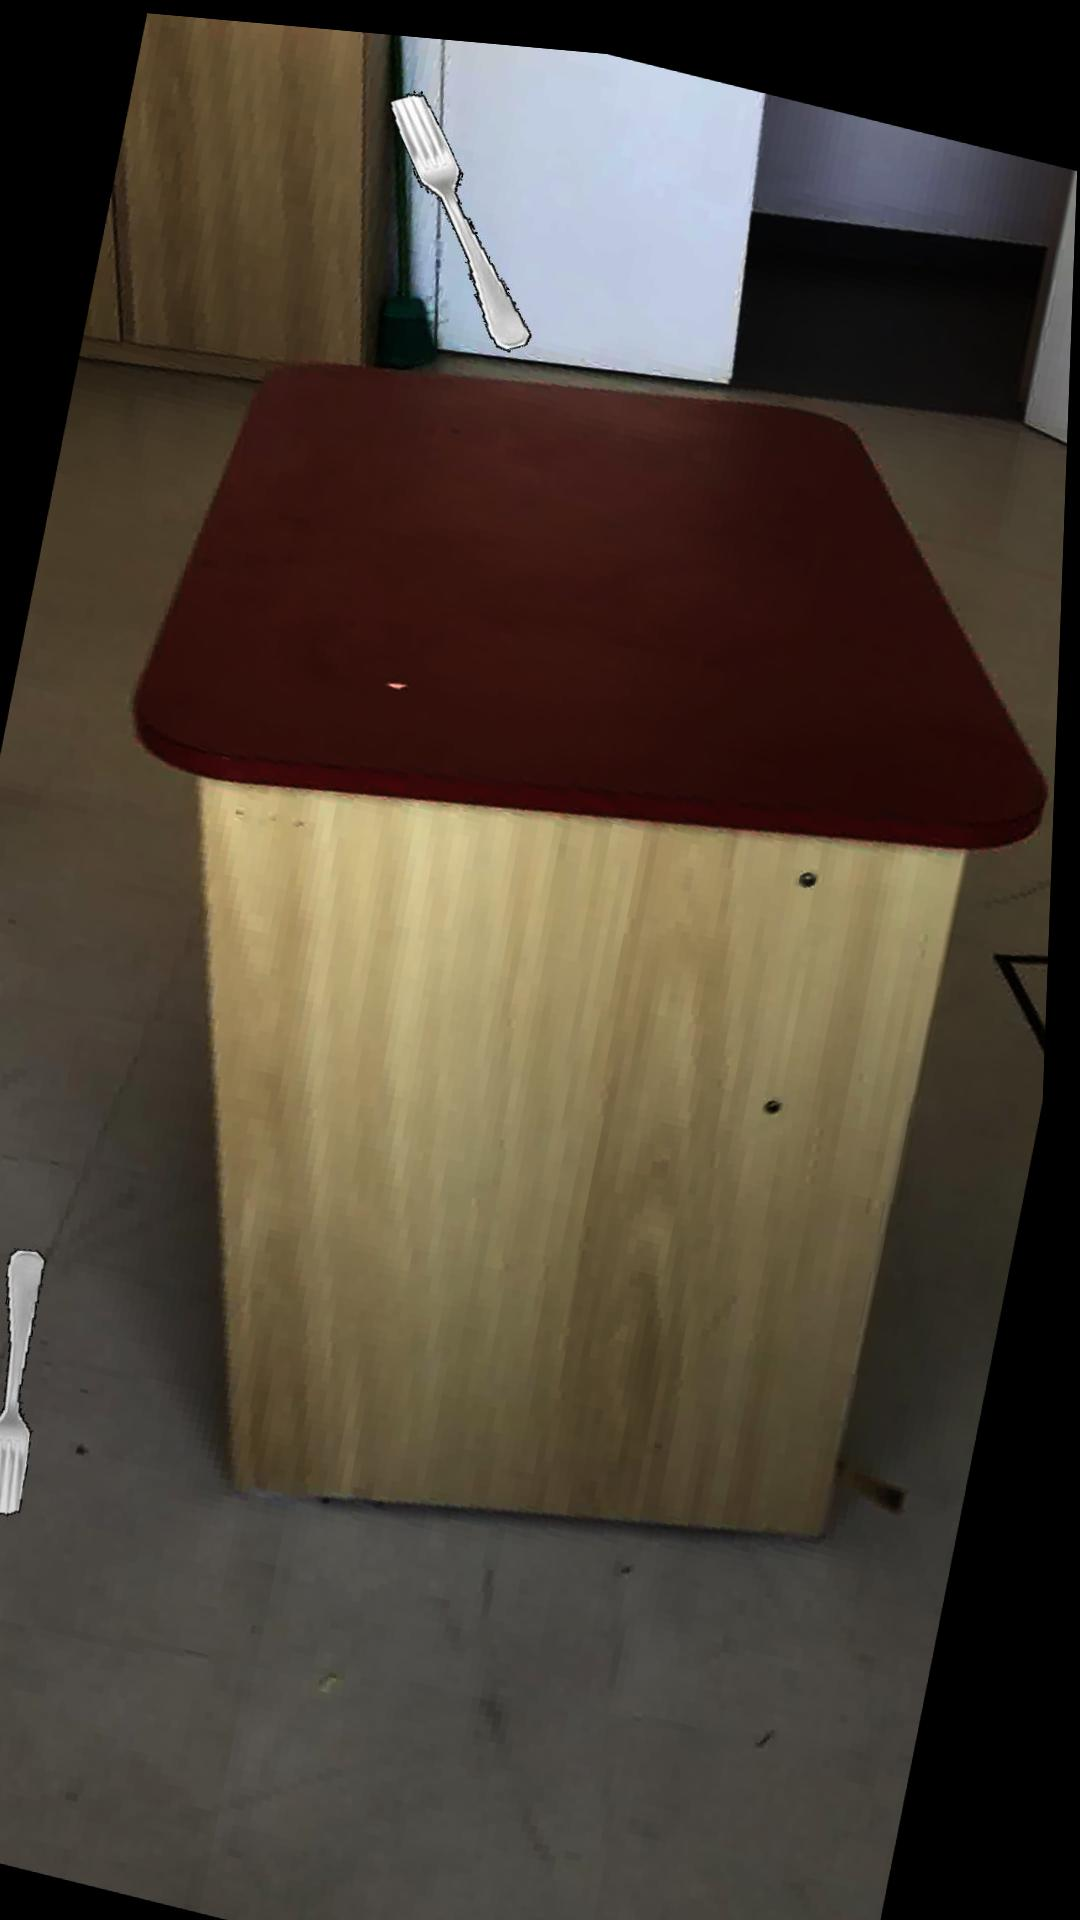fork: (386, 83, 531, 338), (0, 1245, 53, 1511)
